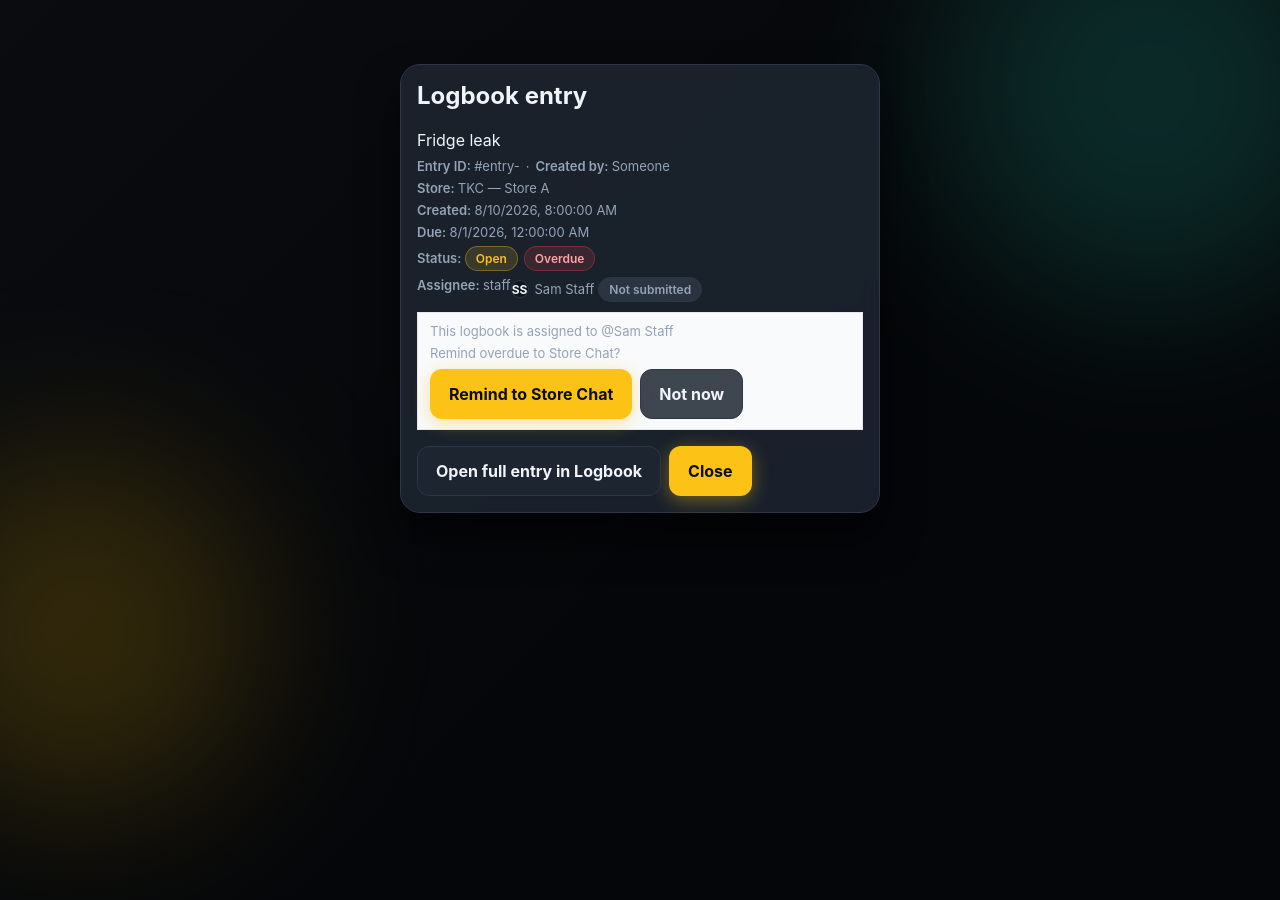
Test: LogbookNotificationPreviewModal › confirms remind via remindOverdueToStoreChat
Click the button with test id "overdue-remind-confirm".
click(531, 394)  # box [430,369,632,419]
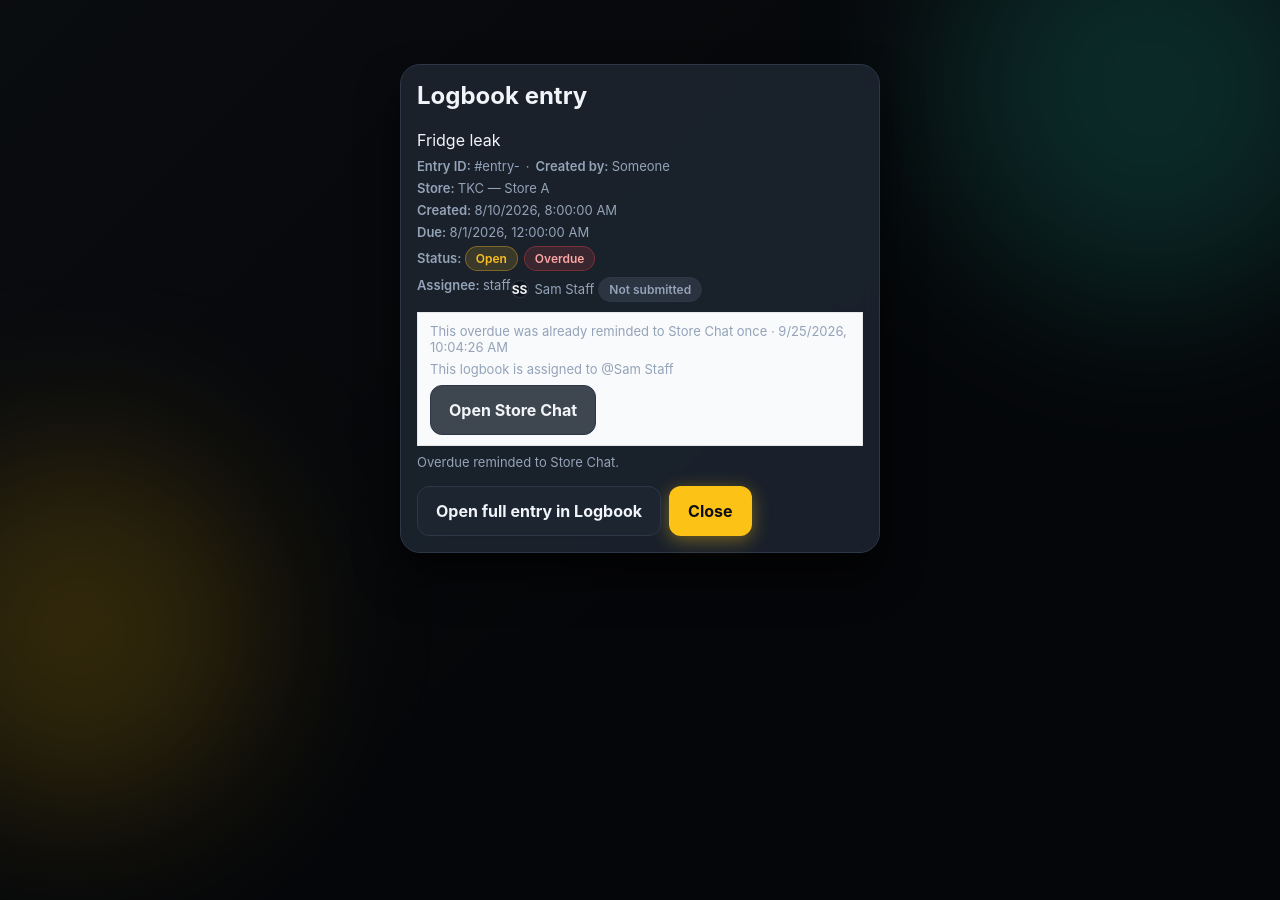
Result: the text with test id "logbook-notif-preview-remind-msg" shows "Overdue reminded" at [417,454,619,470]
